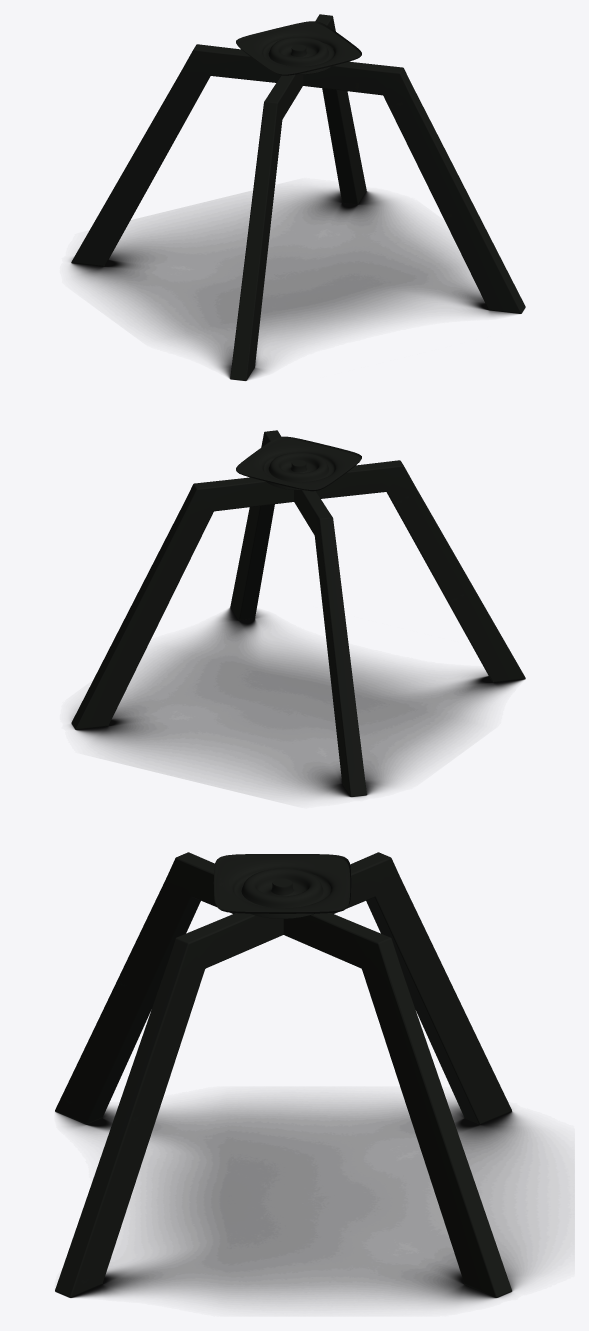
Rendered from z obrotem drewno_v4.glb.
The picture shows the model from 3 angles, top to bottom: view 1: azimuth 30°, elevation 25°; view 2: azimuth 150°, elevation 25°; view 3: azimuth 270°, elevation 25°; orthographic projection. The views are drawn at different scales.
Visible parts, largest first — view 1: Shadow, legs.002; view 2: Shadow, legs.002; view 3: Shadow, legs.002.
Boxes of the visible parts, bbox=[...] form: Shadow: bbox=[70, 189, 525, 380]; legs.002: bbox=[71, 14, 525, 380]; Shadow: bbox=[70, 607, 525, 797]; legs.002: bbox=[71, 430, 525, 796]; Shadow: bbox=[55, 1098, 559, 1304]; legs.002: bbox=[55, 852, 511, 1297].
Bounding box in the file's own units: 0.5956 × 0.3846 × 0.6133.
2 materials, 2 textured.
